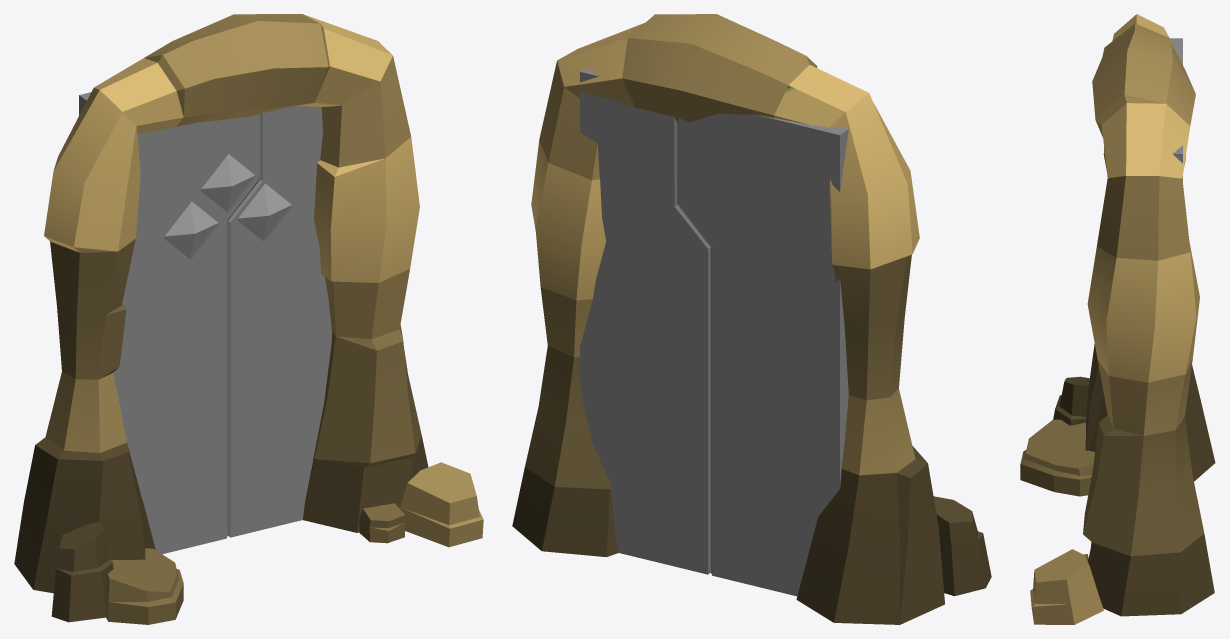
The model's file is Sandstone Door.fbx.
3 renders of one model, left to right at view 1: azimuth 30°, elevation 25°; view 2: azimuth 150°, elevation 25°; view 3: azimuth 270°, elevation 25°, orthographic. The views are drawn at different scales.
Parts seen in each view (by area): view 1: Arch, Door_Left, Door_Right, Rubble_1, Rubble_3, Rubble_4, Gem_Left, Gem_Top, Gem_Right, Rubble_2; view 2: Arch, Door_Left, Door_Right, Rubble_3; view 3: Arch, Rubble_4, Rubble_1, Rubble_3.
Part boxes in pixels (x1=…): Arch: x1=14, y1=14, x2=428, y2=593; Door_Left: x1=79, y1=92, x2=260, y2=554; Door_Right: x1=227, y1=106, x2=331, y2=537; Rubble_1: x1=400, y1=462, x2=483, y2=547; Rubble_3: x1=51, y1=522, x2=113, y2=622; Rubble_4: x1=106, y1=548, x2=183, y2=624; Gem_Left: x1=163, y1=201, x2=218, y2=258; Gem_Top: x1=200, y1=154, x2=254, y2=211; Gem_Right: x1=237, y1=183, x2=291, y2=241; Rubble_2: x1=359, y1=503, x2=405, y2=543; Arch: x1=512, y1=14, x2=944, y2=624; Door_Left: x1=677, y1=113, x2=848, y2=596; Door_Right: x1=580, y1=68, x2=710, y2=574; Rubble_3: x1=933, y1=496, x2=991, y2=596; Arch: x1=1083, y1=14, x2=1215, y2=616; Rubble_4: x1=1020, y1=419, x2=1094, y2=496; Rubble_1: x1=1030, y1=549, x2=1103, y2=624; Rubble_3: x1=1053, y1=376, x2=1089, y2=425.
Size of the model in its own units: 67.54 by 80.34 by 28.78.
